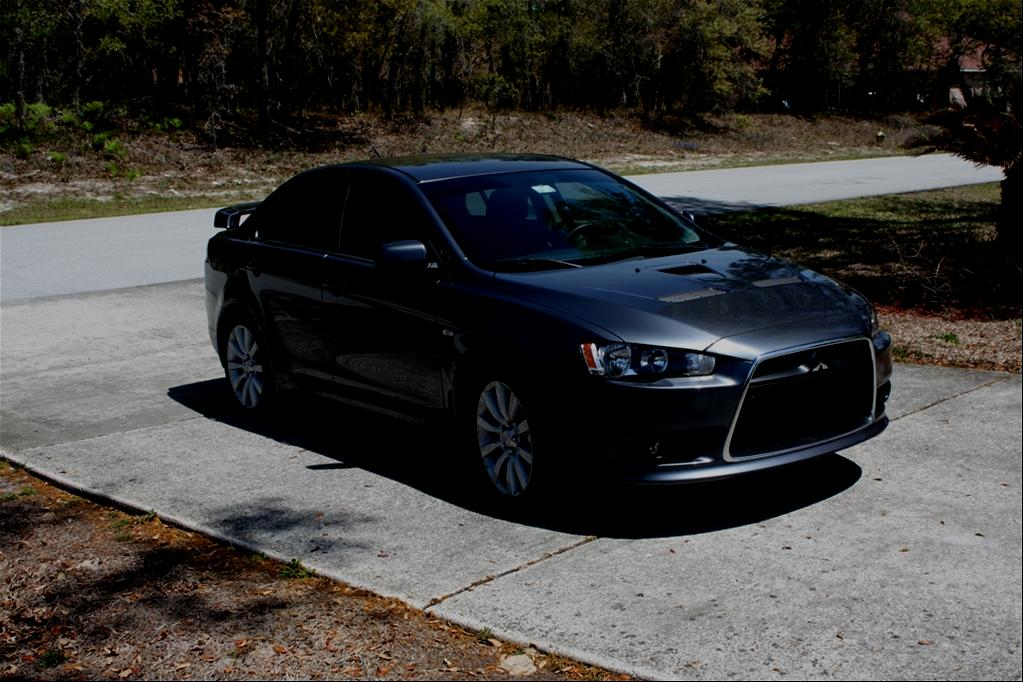Mitsubishi: (806, 343, 843, 380)
